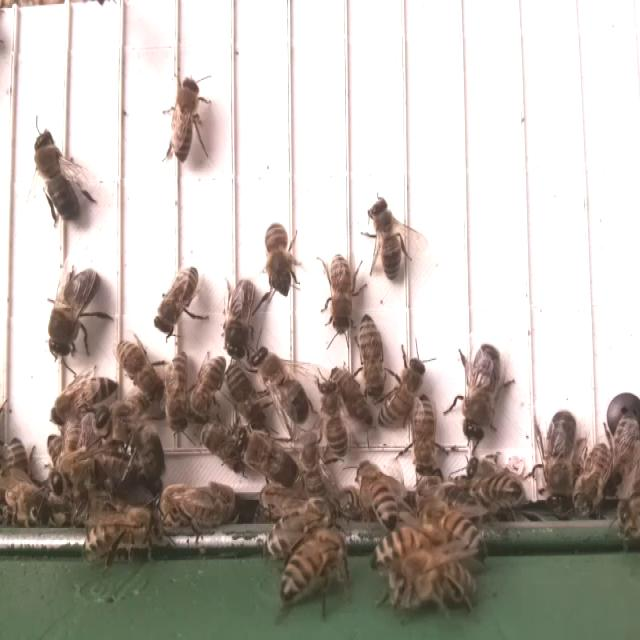Drone: (45, 263, 105, 362), (250, 343, 313, 429), (31, 128, 85, 224), (459, 342, 506, 446), (231, 428, 300, 490), (540, 405, 576, 517), (222, 275, 262, 368)
Worker: (277, 528, 345, 604), (83, 498, 166, 560), (112, 332, 169, 412), (158, 346, 201, 449), (311, 374, 356, 469), (374, 354, 427, 432), (47, 372, 120, 428), (316, 251, 361, 338), (153, 260, 202, 339), (159, 484, 228, 539), (168, 72, 206, 171), (353, 457, 398, 535), (368, 194, 407, 283), (354, 310, 390, 403), (262, 217, 301, 299), (571, 433, 609, 517), (189, 347, 224, 436), (411, 391, 440, 474)
